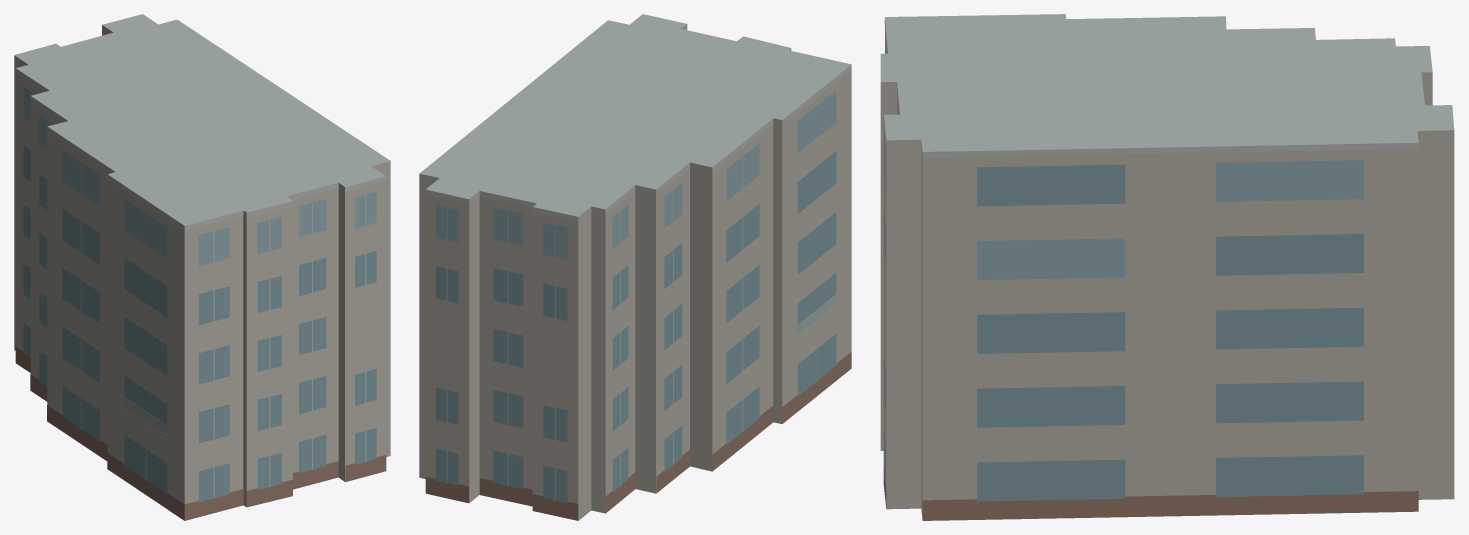
File: survey-upis-32946743.glb
The picture shows the model from 3 angles, left to right: view 1: azimuth 30°, elevation 25°; view 2: azimuth 150°, elevation 25°; view 3: azimuth 270°, elevation 25°; orthographic projection. The views are drawn at different scales.
Visible parts, largest first — view 1: survey-upis-32946743.tmp; view 2: survey-upis-32946743.tmp; view 3: survey-upis-32946743.tmp.
Part boxes in pixels (bbox=[...]): survey-upis-32946743.tmp: bbox=[14, 14, 390, 520]; survey-upis-32946743.tmp: bbox=[419, 14, 851, 520]; survey-upis-32946743.tmp: bbox=[880, 14, 1454, 520].
Bounding box in the file's own units: 12.04 × 15 × 21.15.
